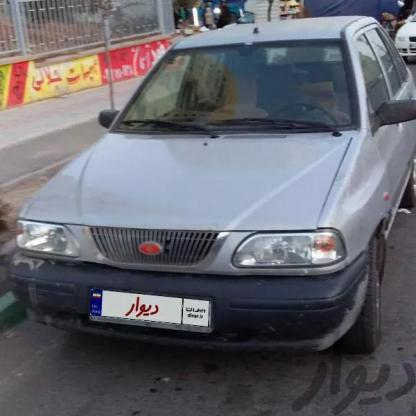Car: (5, 0, 413, 367), (392, 10, 416, 57)
